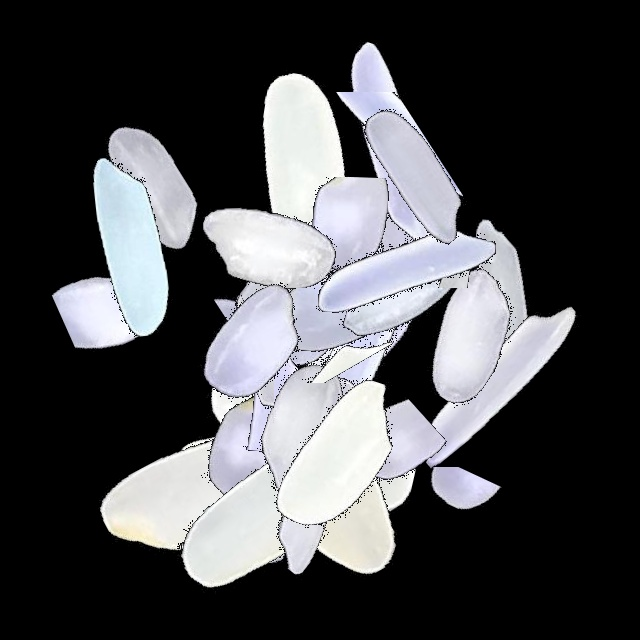Broken: (159, 416, 409, 589), (224, 177, 474, 340), (238, 389, 488, 550), (165, 393, 415, 550), (11, 220, 261, 374), (199, 253, 347, 503), (232, 92, 482, 233), (151, 257, 274, 507), (321, 467, 571, 574), (295, 182, 545, 288), (104, 446, 354, 546), (198, 256, 293, 506), (216, 453, 466, 548), (301, 330, 395, 580), (143, 251, 393, 345), (219, 325, 305, 575), (187, 297, 437, 383), (251, 237, 336, 487), (337, 82, 419, 332), (184, 405, 434, 480)
Full: (244, 103, 494, 353), (223, 226, 473, 476), (209, 145, 459, 395), (288, 108, 538, 358), (187, 185, 437, 435), (138, 173, 388, 423), (179, 301, 429, 551), (113, 348, 363, 598), (376, 170, 626, 420), (73, 371, 323, 621), (231, 246, 481, 496), (372, 256, 622, 506), (178, 47, 428, 297), (28, 62, 278, 312), (128, 319, 378, 569), (206, 186, 456, 436), (221, 316, 471, 566), (142, 390, 392, 640), (273, 165, 523, 415), (201, 355, 451, 605), (271, 18, 521, 268), (5, 120, 255, 370), (343, 213, 593, 463), (178, 303, 428, 553), (186, 376, 436, 626), (283, 148, 533, 398), (143, 124, 393, 374), (217, 327, 467, 577), (294, 50, 544, 300), (128, 219, 378, 469)
